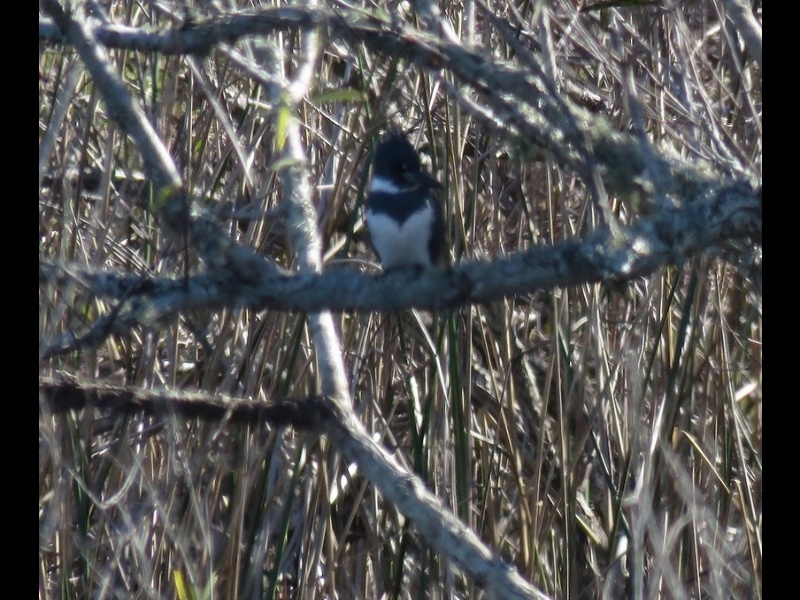kingfisher: (364, 123, 452, 280)
